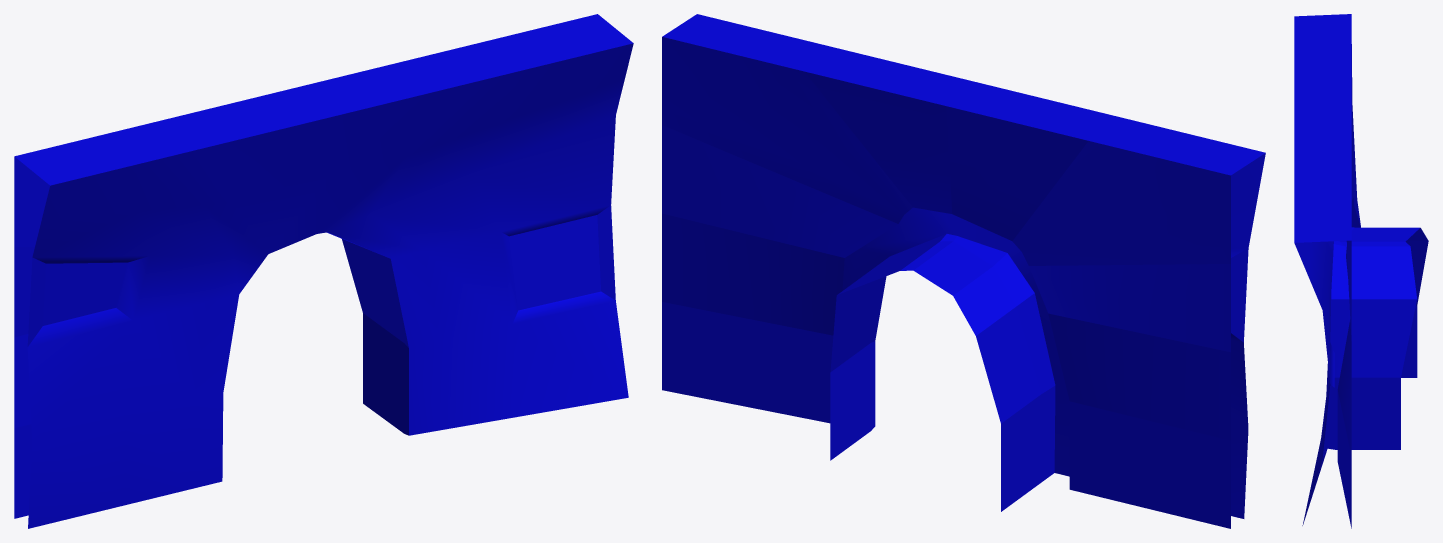
File: m_cavewallhole.fbx
3 views of the same model, side by side, from view 1: azimuth 30°, elevation 25°; view 2: azimuth 150°, elevation 25°; view 3: azimuth 270°, elevation 25° (orthographic). The views are drawn at different scales.
Parts seen in each view (by area): view 1: m_cavewallhole; view 2: m_cavewallhole; view 3: m_cavewallhole.
Boxes of the visible parts, <box> form: m_cavewallhole: <box>14,14,633,528</box>; m_cavewallhole: <box>662,14,1265,528</box>; m_cavewallhole: <box>1294,14,1428,528</box>.
Bounding box in the file's own units: 8 × 4.75 × 2.01.
